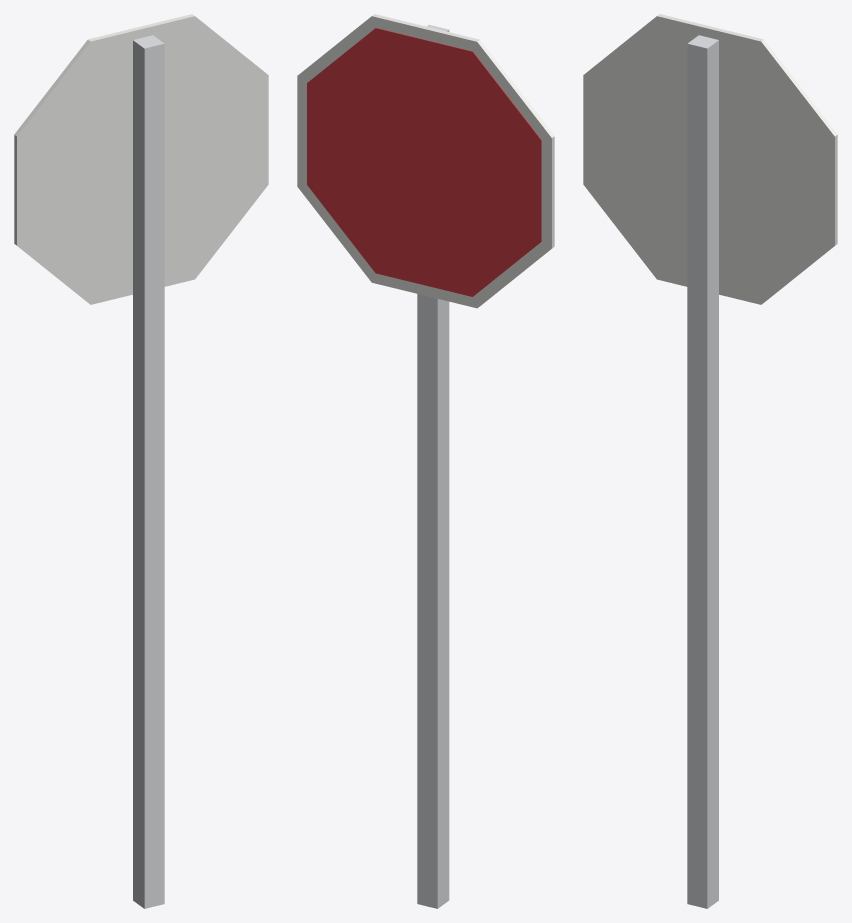
The model's file is stop_sign.glb.
3 views of the same model, side by side, from view 1: azimuth 30°, elevation 25°; view 2: azimuth 150°, elevation 25°; view 3: azimuth 330°, elevation 25° (orthographic).
Visible parts, largest first — view 1: Border, Post; view 2: Face, Post, Border; view 3: Border, Post.
Part boxes in pixels (box(x1,y1,x2,y2)): Border: box(14, 14, 268, 304); Post: box(133, 35, 164, 908); Face: box(307, 28, 541, 296); Post: box(417, 24, 449, 908); Border: box(297, 14, 554, 308); Border: box(583, 14, 837, 304); Post: box(687, 35, 718, 908).
Size of the model in its own units: 0.75 by 2.47 by 0.077.
